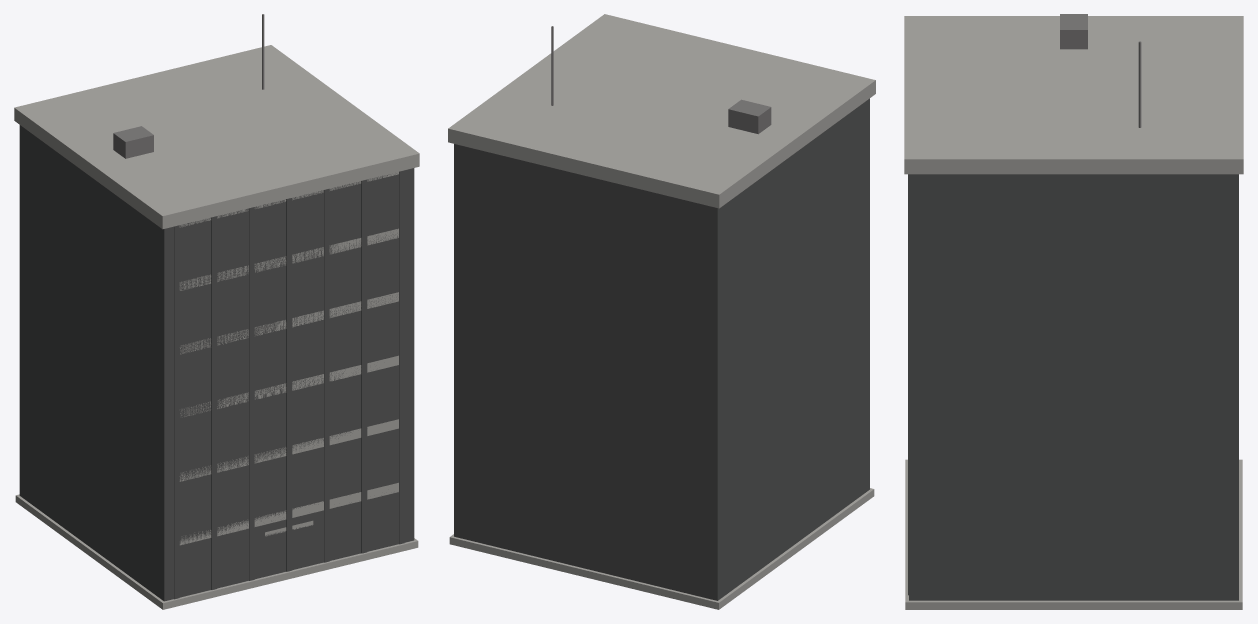
Rendered from b_tower1.glb.
The picture shows the model from 3 angles, left to right: view 1: azimuth 30°, elevation 25°; view 2: azimuth 150°, elevation 25°; view 3: azimuth 270°, elevation 25°; orthographic projection. The views are drawn at different scales.
Parts seen in each view (by area): view 1: Building; view 2: Building; view 3: Building.
Boxes of the visible parts, box(x1,y1,x2,y2) form: Building: box(14, 14, 419, 609); Building: box(448, 14, 875, 609); Building: box(904, 14, 1243, 609).
Size of the model in its own units: 14.4 by 25.2 by 14.4.
5 materials, 2 textured.
